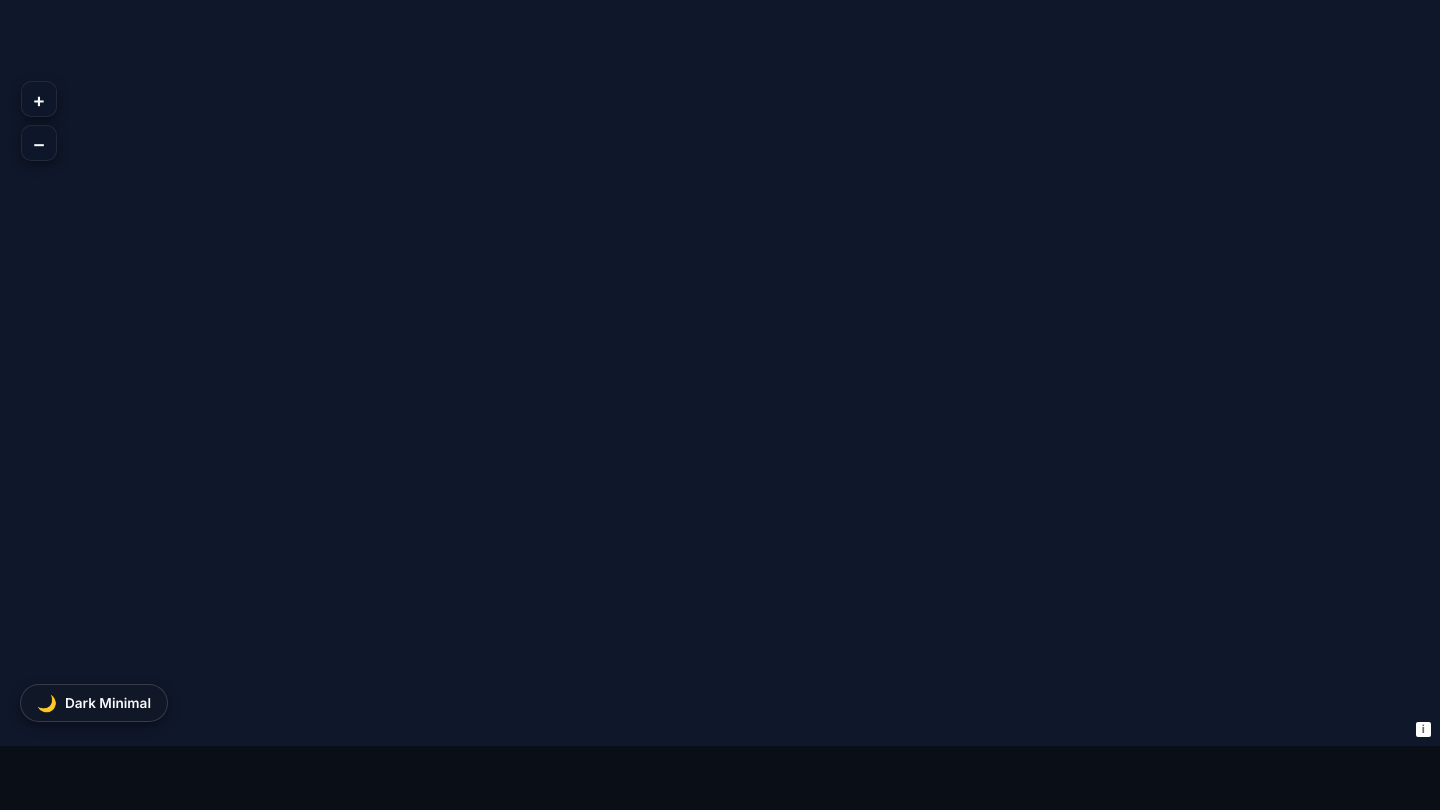
Test: MapContainer Component › toggles basemap switcher and changes basemap option
expect the button "Dark Minimal" is shown: met, box [65,695,151,711]
Open menu
Click the button titled "Change Basemap Style": (94, 703) [20,684,168,722]
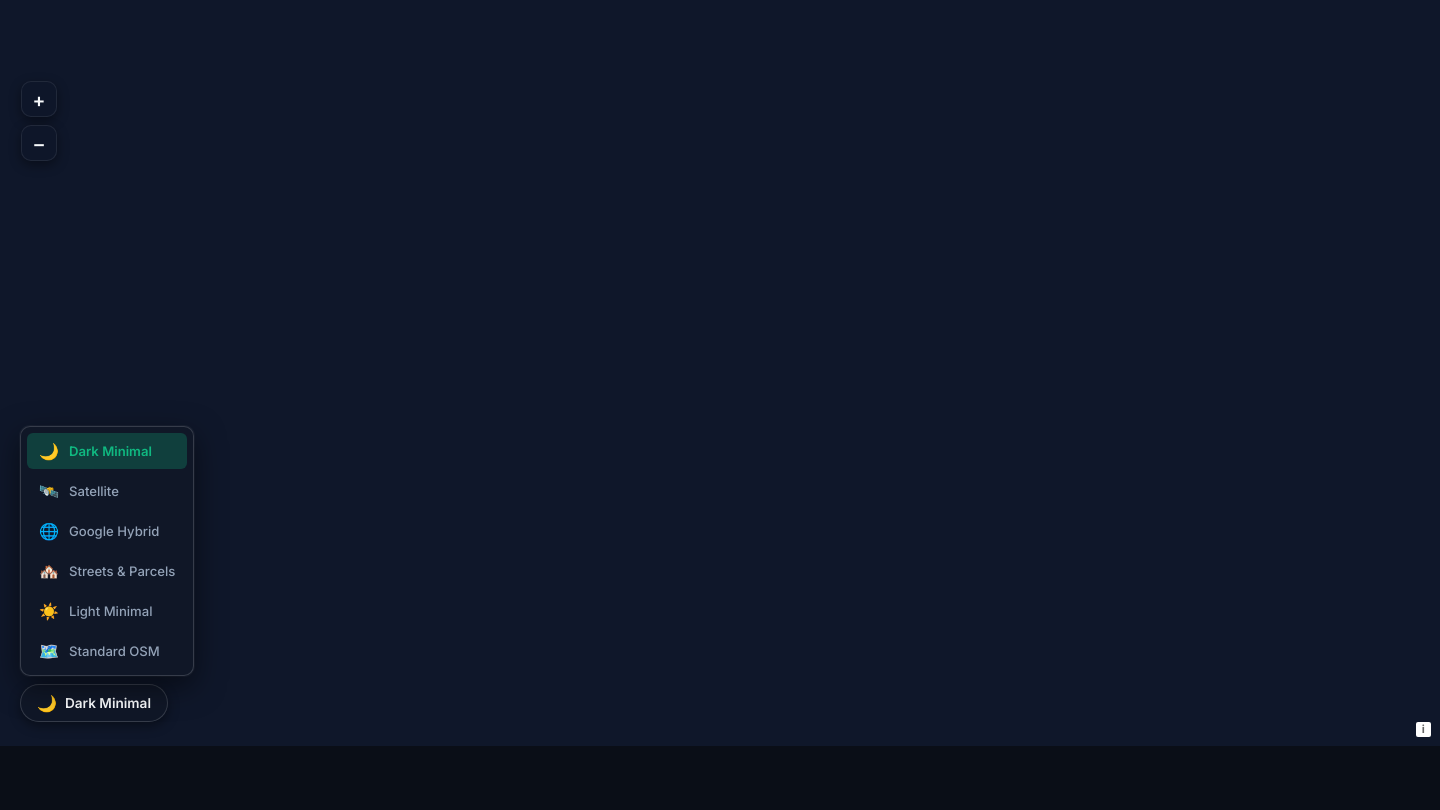
expect the text "Satellite" is shown: met
Select satellite
Click the text "Satellite": (94, 491) [69,483,119,499]
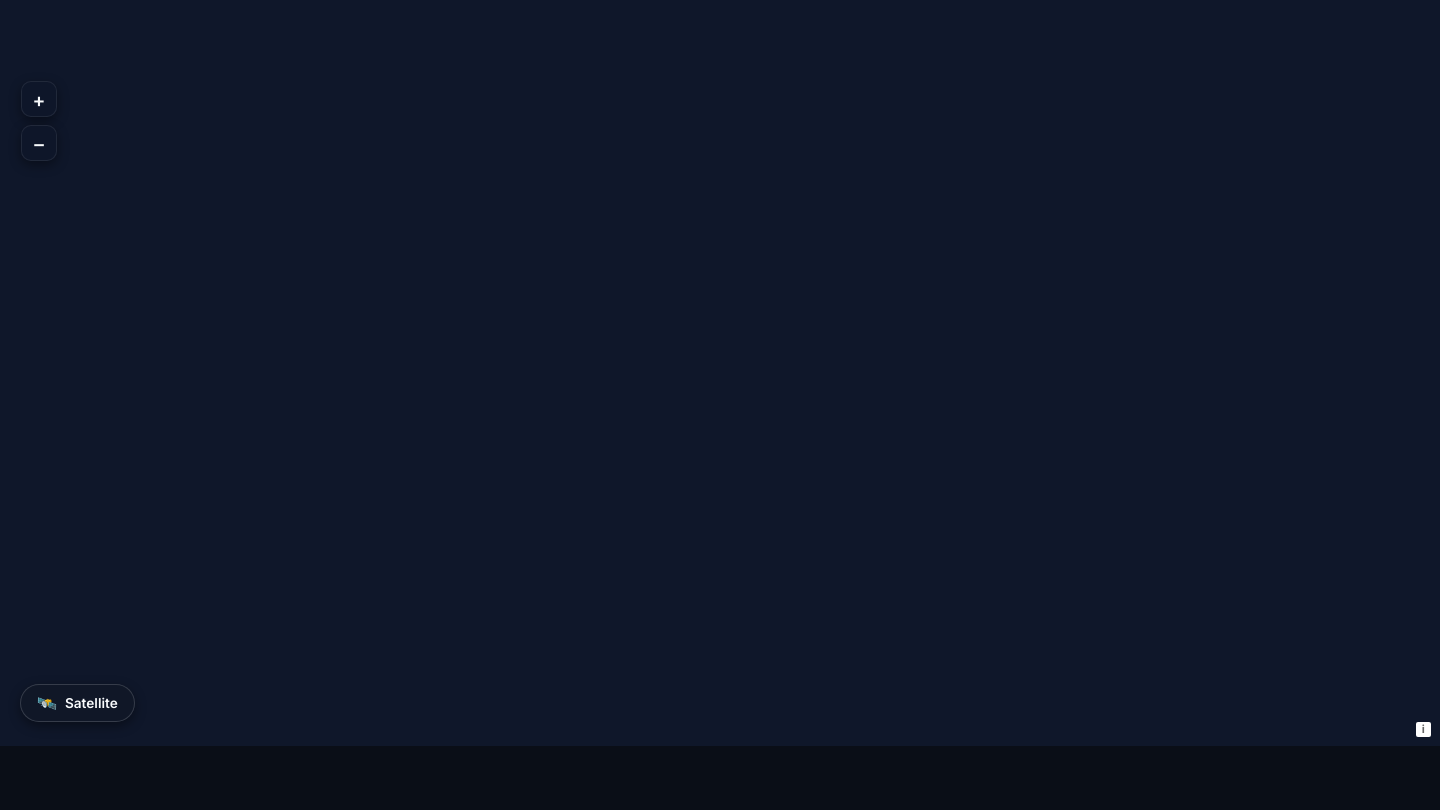
expect the button "Satellite" is shown: met, box [65,695,118,711]
